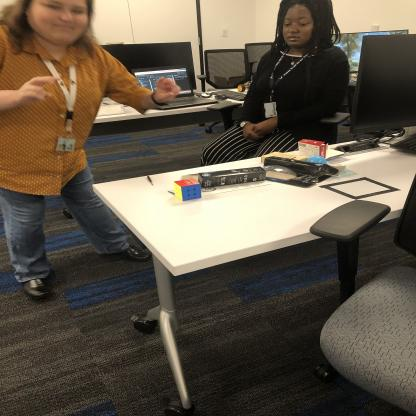SolvedCube: (171, 178, 204, 200)
